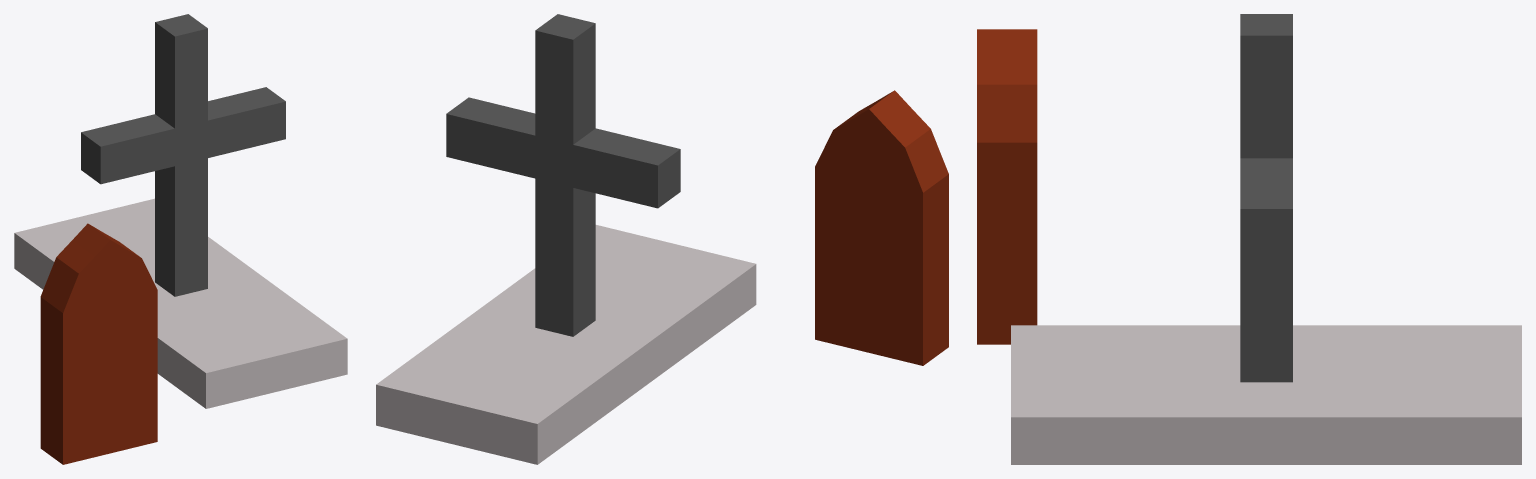
The model's file is level3graves.fbx.
3 views of the same model, side by side, from view 1: azimuth 30°, elevation 25°; view 2: azimuth 150°, elevation 25°; view 3: azimuth 270°, elevation 25° (orthographic). The views are drawn at different scales.
Parts seen in each view (by area): view 1: Cube.117, Window.004, Cube.118; view 2: Cube.117, Window.004, Cube.118; view 3: Cube.117, Cube.118, Window.004.
Part boxes in pixels (x1=…): Cube.117: x1=14, y1=198, x2=347, y2=408; Window.004: x1=40, y1=223, x2=157, y2=464; Cube.118: x1=81, y1=14, x2=285, y2=296; Cube.117: x1=376, y1=225, x2=756, y2=464; Window.004: x1=815, y1=90, x2=948, y2=365; Cube.118: x1=446, y1=14, x2=680, y2=336; Cube.117: x1=1011, y1=325, x2=1521, y2=464; Cube.118: x1=1240, y1=14, x2=1292, y2=382; Window.004: x1=977, y1=29, x2=1037, y2=344.
Bounding box in the file's own units: 86.68 × 78.6 × 95.42.
